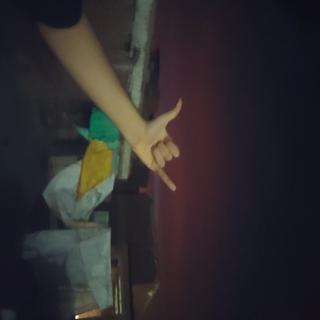YA: (72, 178, 150, 252)
